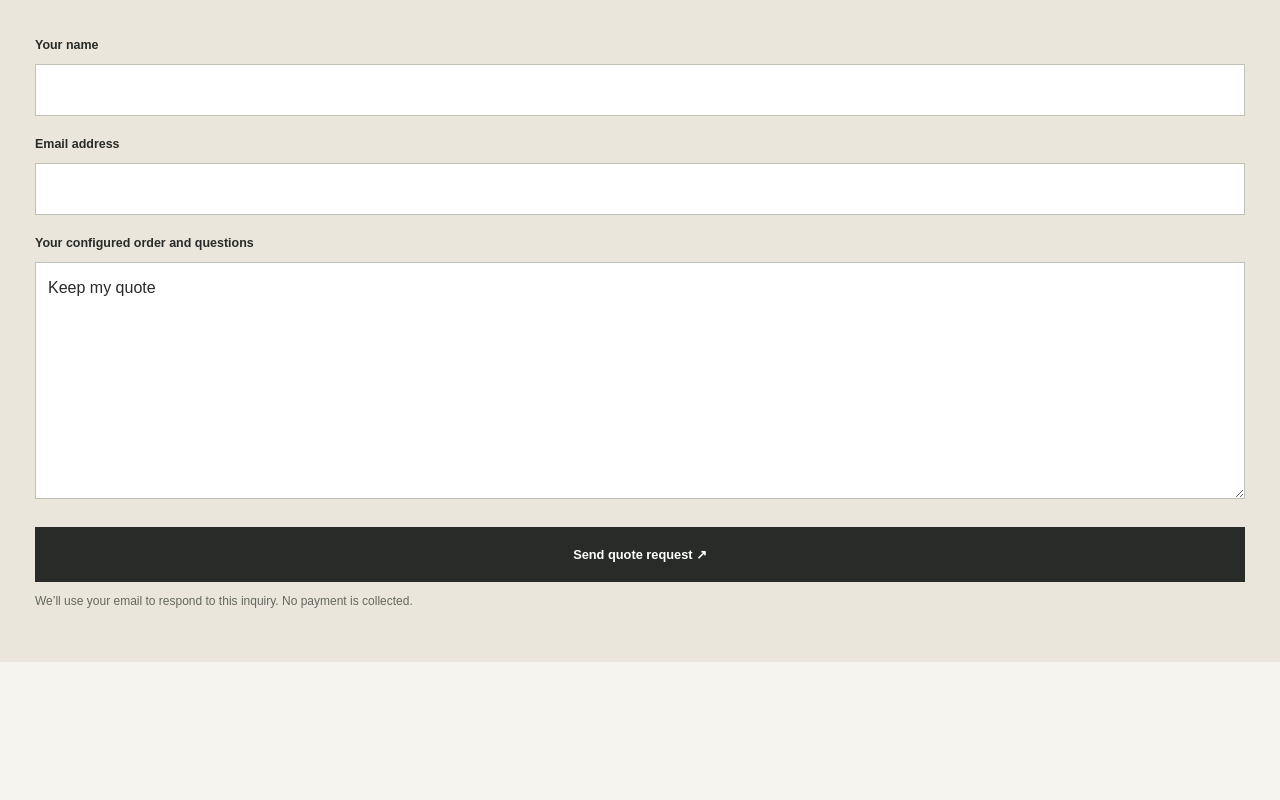
Test: 429 preserves the form and focuses the error alert
Step 1. Type "Trade Buyer" into the field labelled "Your name" → (640, 90), box [35,64,1245,116]
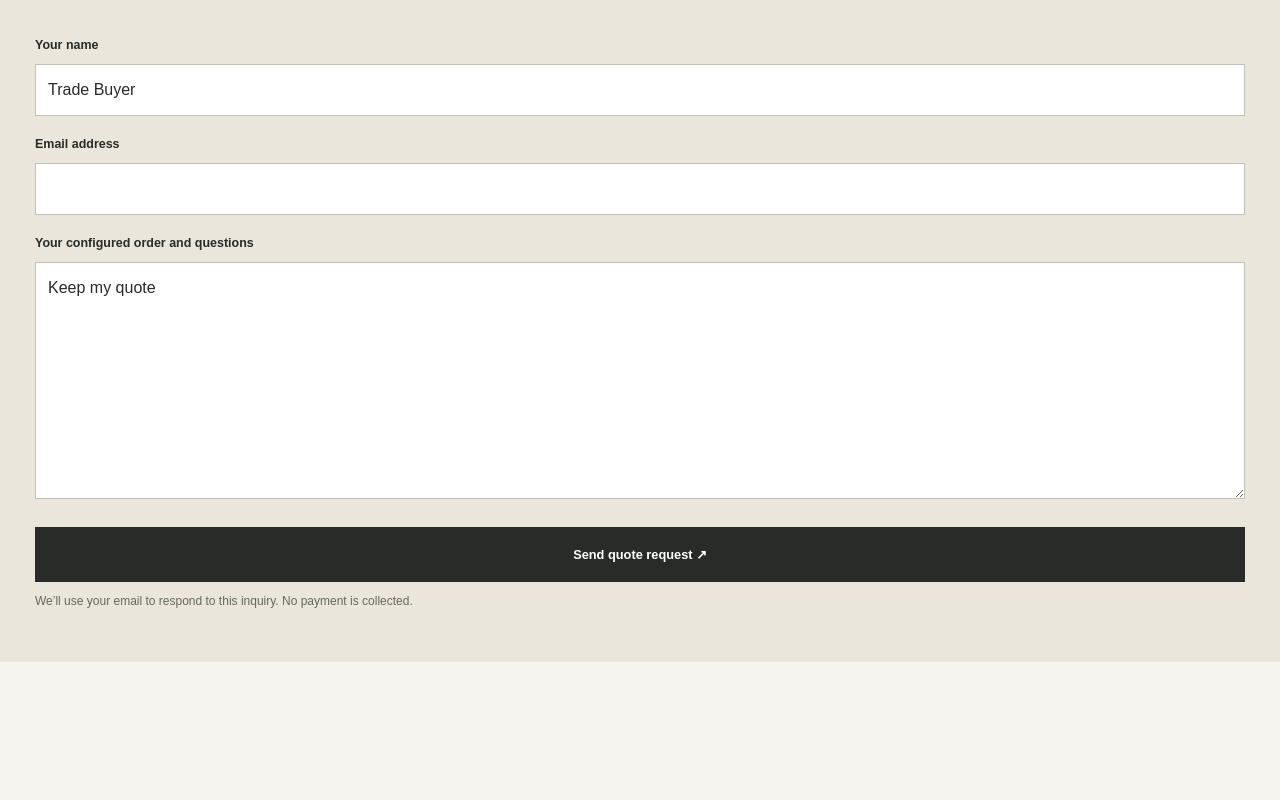
Step 2. Type "buyer@example.com" into the field labelled "Email address" → (640, 189), box [35,163,1245,215]
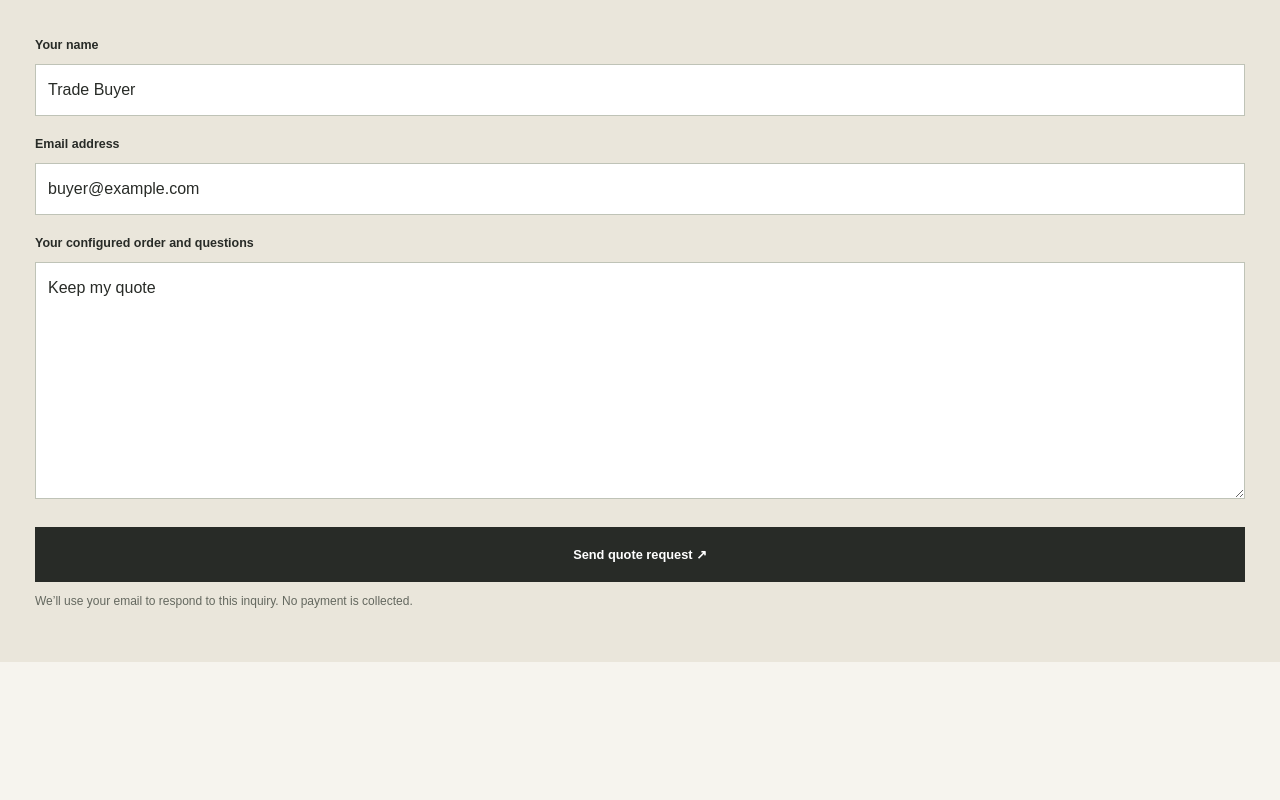
Step 3. Click the button "Send quote request ↗" → (640, 555), box [35,527,1245,582]
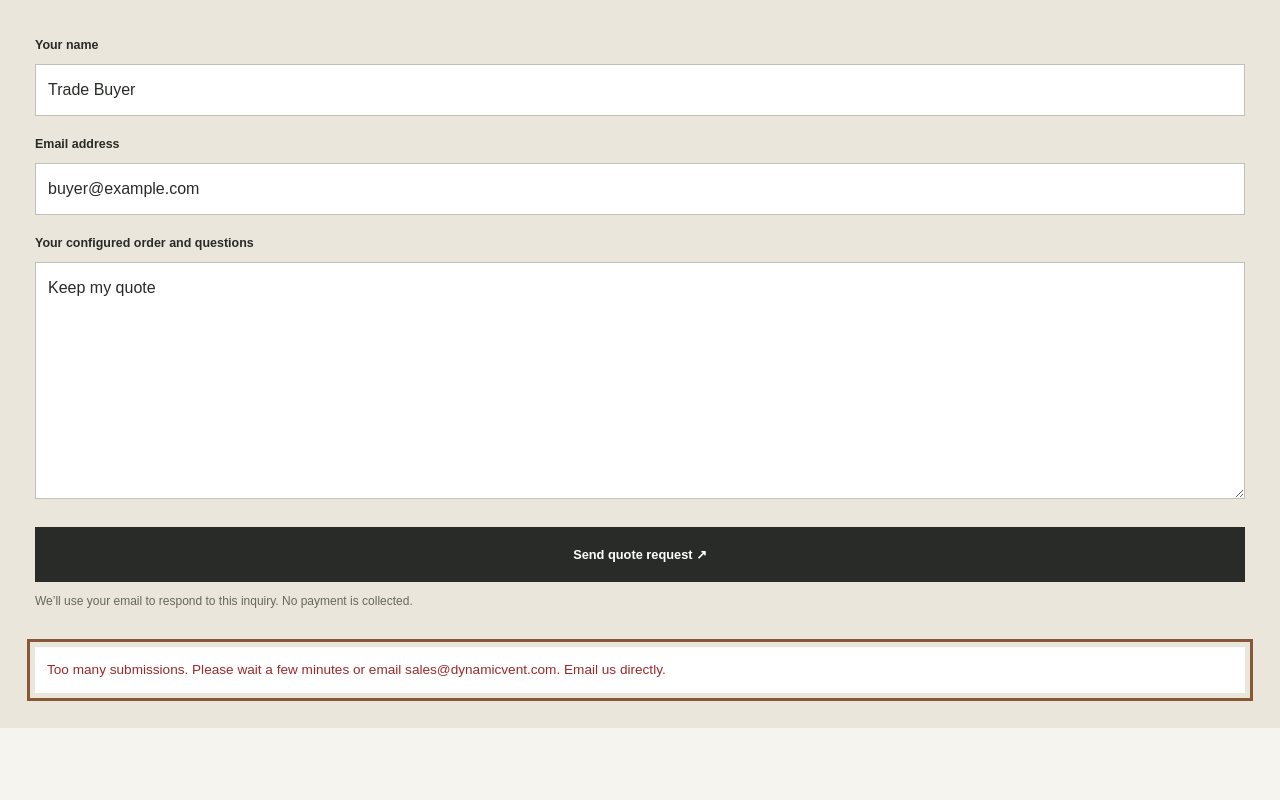
expect the text box labelled "Your configured order and questions" holds "Keep my quote": met, box [35,262,1245,499]
expect the message shows "Too many submissions. Please wait a few minutes or email sales@dynamicvent.com.": met, box [47,662,560,677]
